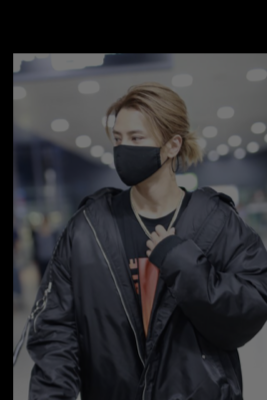with_mask: (111, 128, 165, 188)
